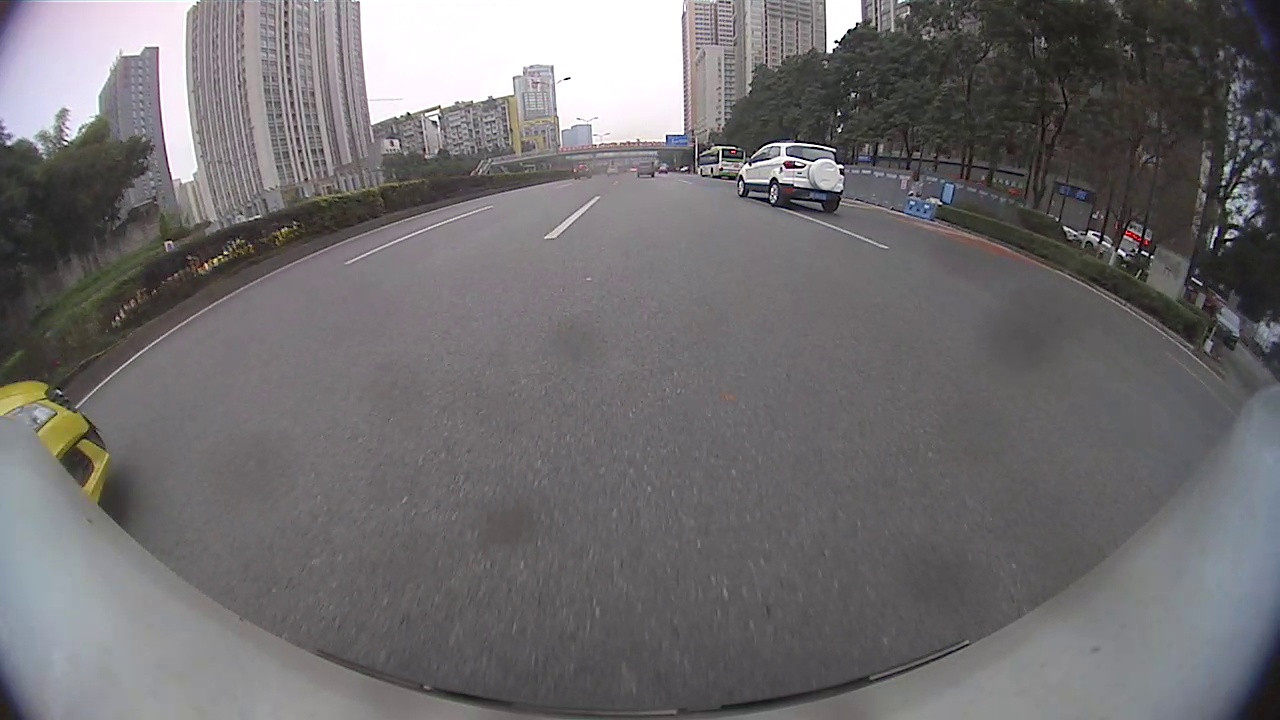bus: (697, 146, 746, 178)
car: (1, 379, 111, 525), (736, 141, 847, 214), (1078, 229, 1128, 261), (1211, 304, 1242, 351), (635, 161, 657, 179), (572, 162, 592, 179)
front: (735, 177, 751, 197)
rear: (767, 184, 782, 208)
